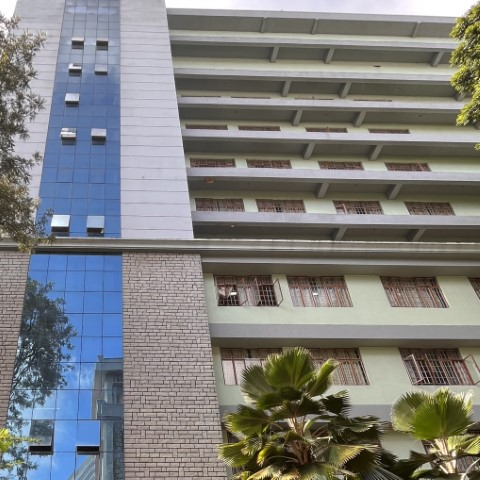Central Block: (15, 2, 480, 462)
